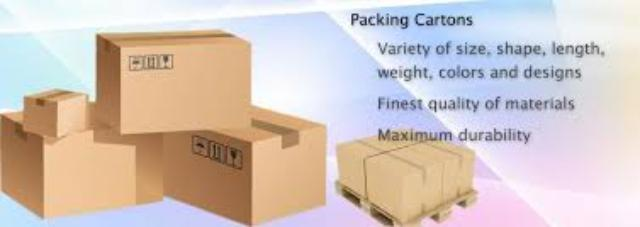cardboard paper: (162, 105, 327, 227), (1, 103, 164, 219), (97, 32, 250, 132), (22, 90, 88, 136)
